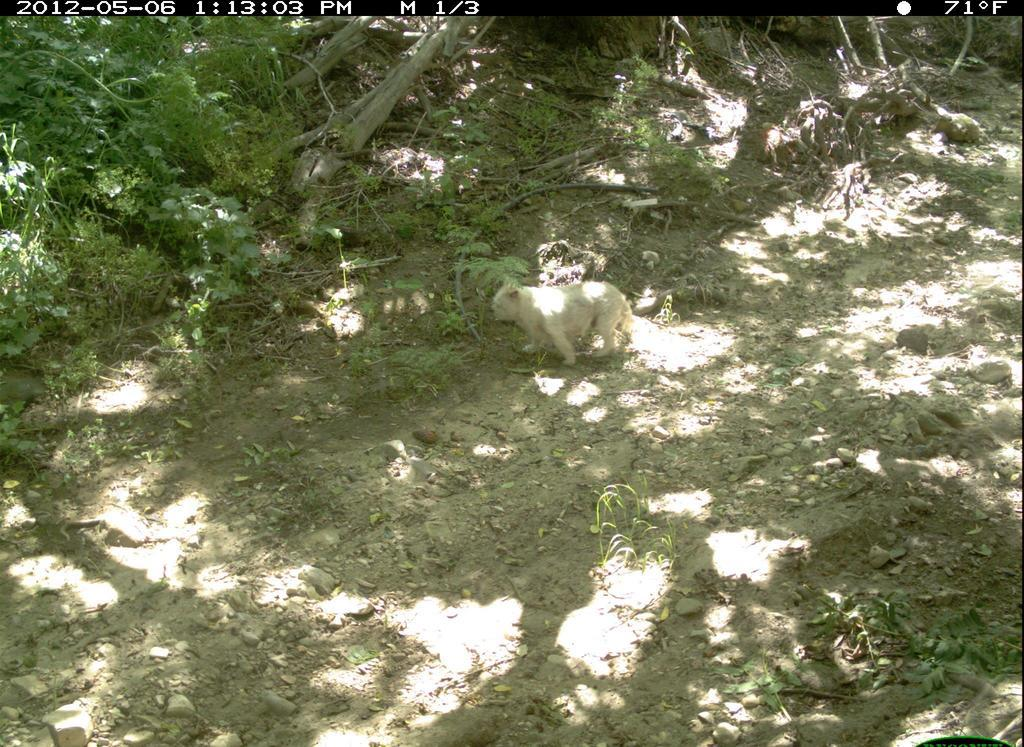dog: (478, 257, 656, 372)
